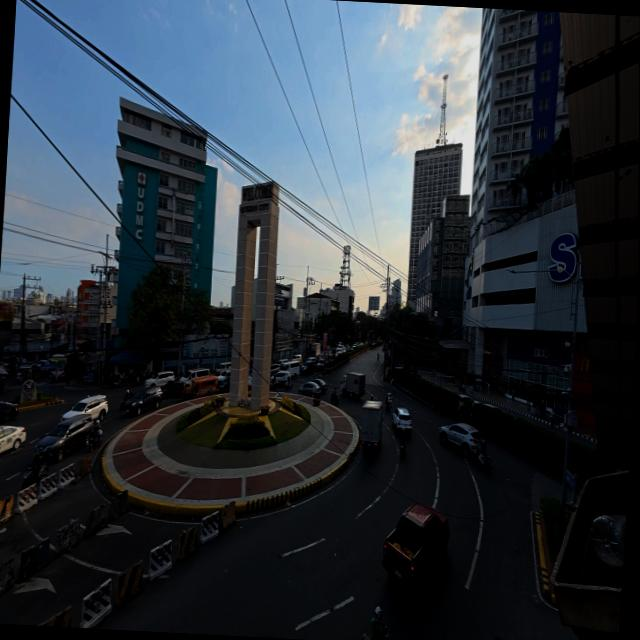Jeepneys: (182, 375, 218, 400)
car: (36, 415, 94, 462), (440, 423, 482, 457), (61, 395, 108, 421), (125, 387, 162, 415), (0, 426, 26, 453), (393, 407, 412, 437), (144, 371, 175, 387), (180, 368, 210, 383), (161, 381, 183, 400), (0, 402, 18, 423), (299, 381, 321, 397), (299, 359, 315, 375), (312, 378, 327, 393), (17, 366, 31, 382), (483, 403, 504, 413), (275, 371, 290, 385), (458, 394, 470, 410), (218, 376, 230, 392), (219, 369, 230, 382), (217, 362, 231, 372), (270, 364, 279, 375), (316, 359, 324, 369), (248, 375, 252, 389), (294, 355, 301, 361)
motorcycle: (22, 463, 48, 489), (474, 451, 492, 472), (89, 425, 103, 451), (119, 393, 130, 411), (110, 375, 123, 388), (400, 434, 407, 456), (386, 394, 392, 412), (331, 393, 339, 406), (459, 382, 466, 392), (0, 380, 4, 392), (377, 354, 379, 363)
trucks: (383, 503, 449, 596)
vans: (360, 401, 383, 451), (341, 372, 365, 399), (144, 371, 175, 387), (180, 368, 210, 383), (279, 360, 300, 378), (217, 362, 231, 371)
